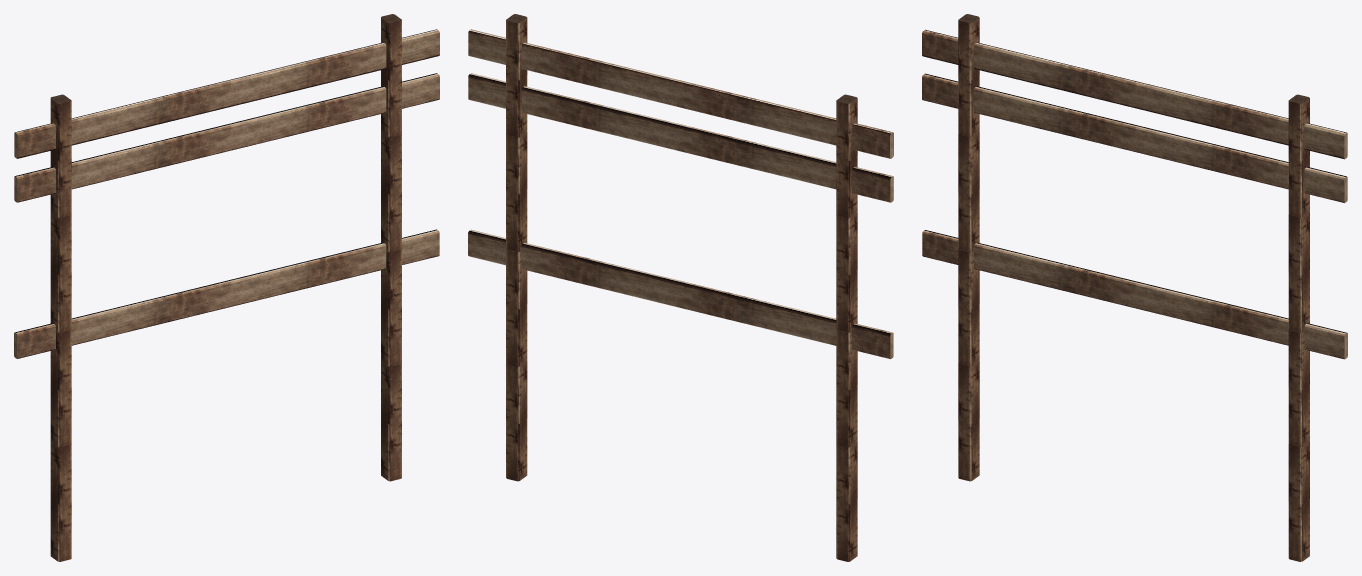
File: fence_wood2.fbx
The picture shows the model from 3 angles, left to right: view 1: azimuth 30°, elevation 25°; view 2: azimuth 150°, elevation 25°; view 3: azimuth 330°, elevation 25°; orthographic projection.
Parts seen in each view (by area): view 1: fence2; view 2: fence2; view 3: fence2.
Part boxes in pixels (x1,y1,x2,y2): fence2: (14, 14, 439, 561); fence2: (468, 14, 893, 561); fence2: (922, 14, 1347, 561).
Size of the model in its own units: 17.68 by 18.33 by 0.6639.
